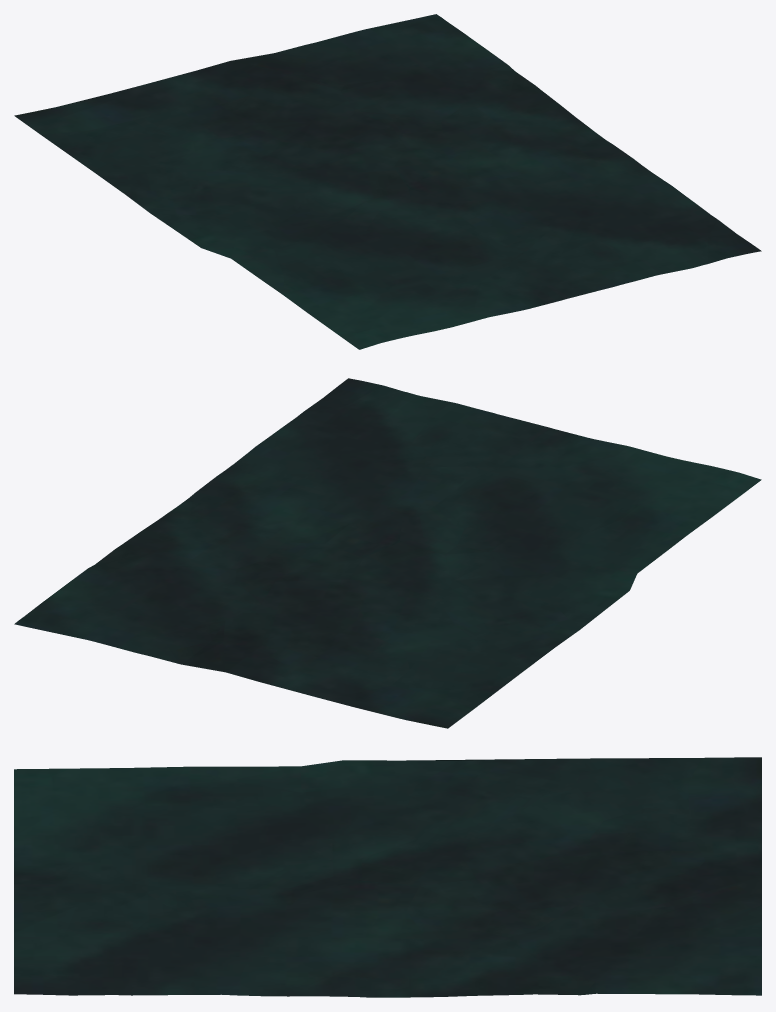
The picture shows the model from 3 angles, top to bottom: view 1: azimuth 30°, elevation 25°; view 2: azimuth 150°, elevation 25°; view 3: azimuth 270°, elevation 25°; orthographic projection. The views are drawn at different scales.
Bounding box in the file's own units: 39.13 × 0.4802 × 52.22.
Materials: 2 (2 with a texture image).
